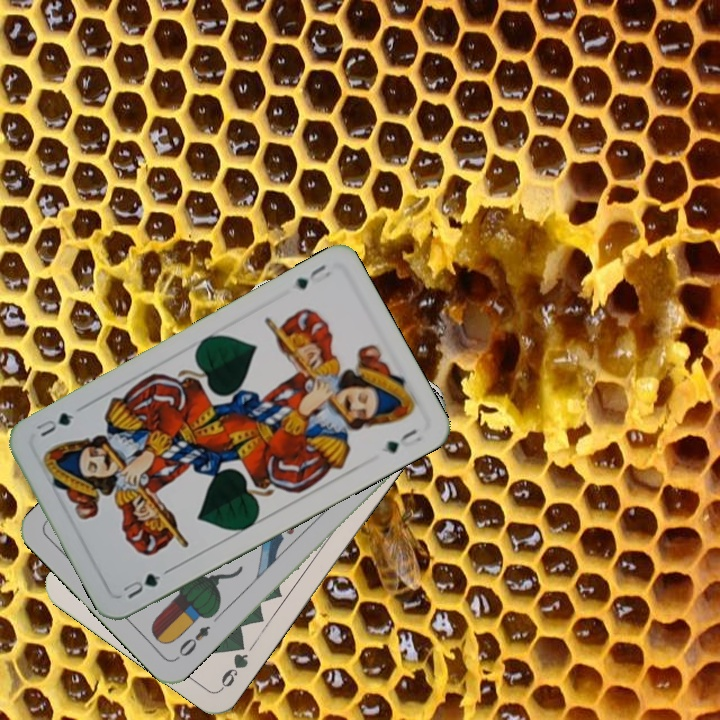EO: (174, 621, 213, 659)
G9: (216, 635, 251, 693)
GU: (119, 569, 163, 602), (290, 260, 334, 292)
